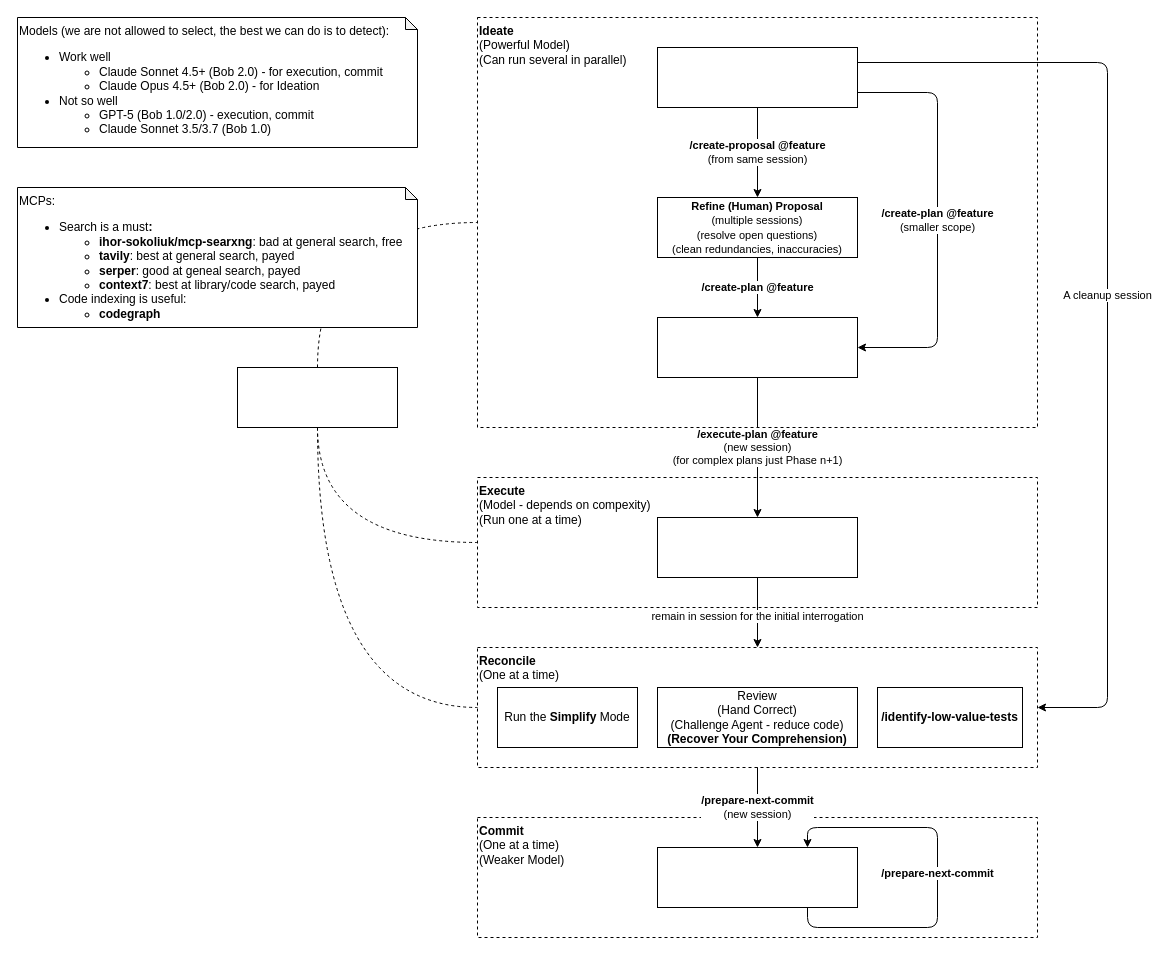
The diagram is 1169 pixels wide and 955 high, and some of its shapes have lost their labels. Each missing label, with the centre of its shape:
"Agent Codes (check progress periodically)" belongs at (757,547).
"Communication Style (anti-sichophancy) (model self-identification)" belongs at (317,397).
"Load Context (May stay pinned for a while)" belongs at (757,77).
"Refine (Agent) Plan (multiple sessions) (resolve open questions)" belongs at (757,347).
"Refine Commit" belongs at (757,877).
